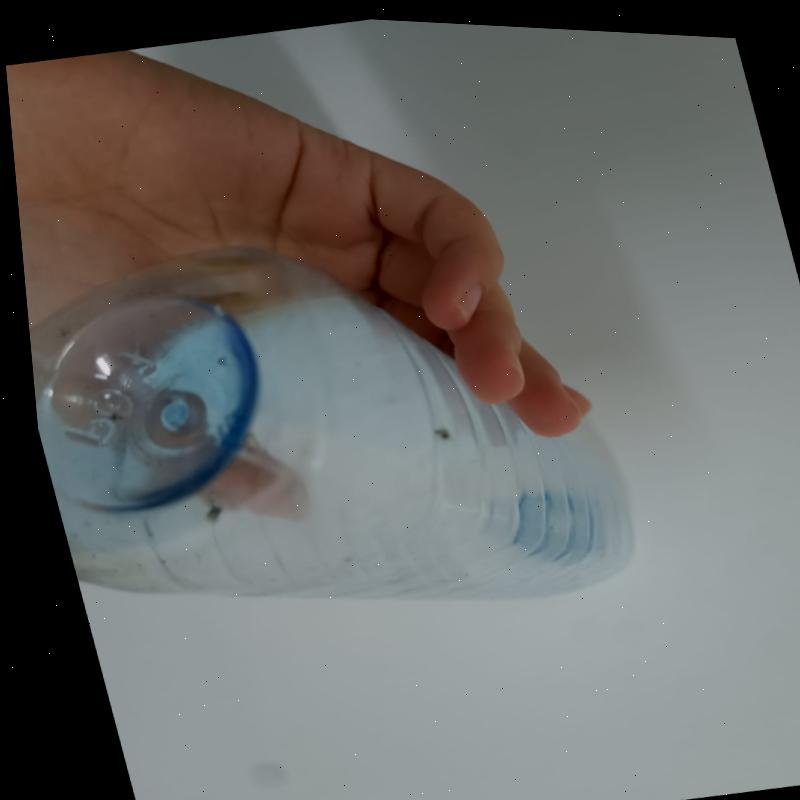botella: (12, 166, 669, 680)
